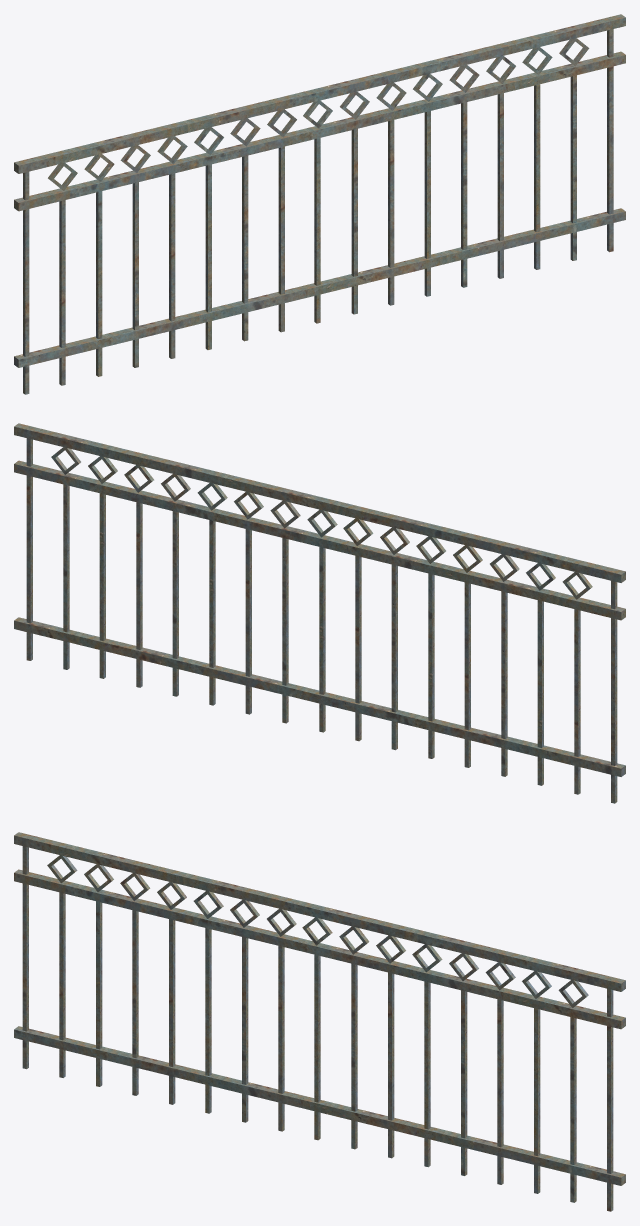
The model's file is fence03.FBX.
3 views of the same model, one above another, from view 1: azimuth 30°, elevation 25°; view 2: azimuth 150°, elevation 25°; view 3: azimuth 330°, elevation 25° (orthographic).
Visible parts, largest first — view 1: metal_fence_large_diamond; view 2: metal_fence_large_diamond; view 3: metal_fence_large_diamond.
Part boxes in pixels (bbox=[...]): metal_fence_large_diamond: bbox=[14, 14, 625, 394]; metal_fence_large_diamond: bbox=[14, 423, 625, 803]; metal_fence_large_diamond: bbox=[14, 832, 625, 1211].
Size of the model in its own units: 476 by 173 by 6.31.
